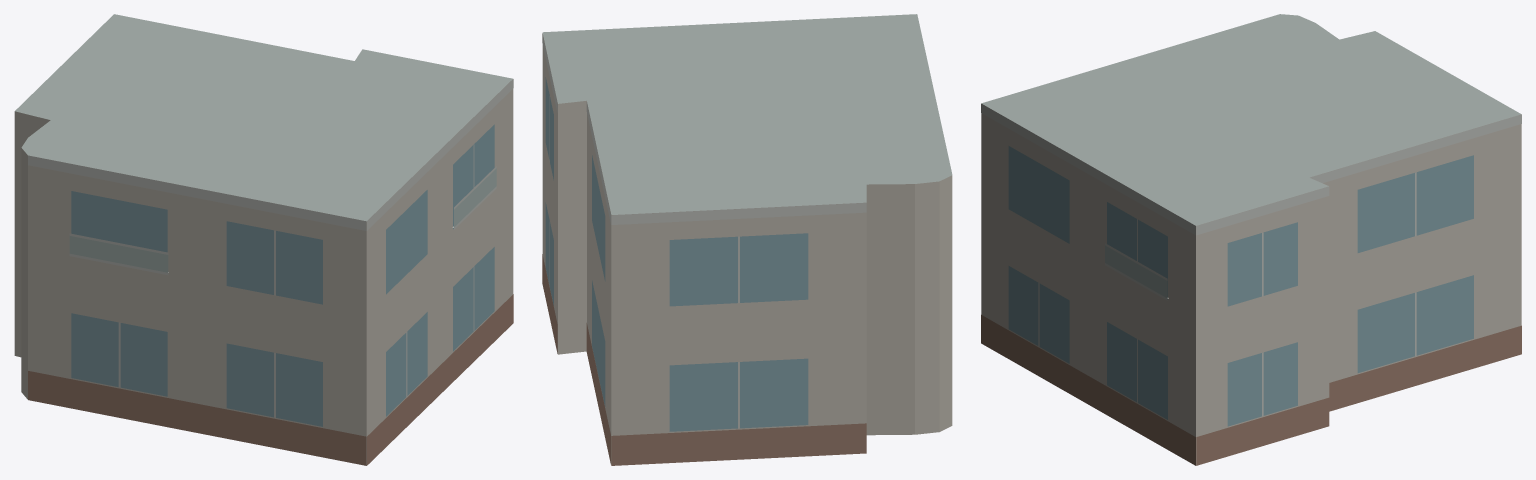
File: survey-upis-32597837.glb
3 renders of one model, left to right at view 1: azimuth 30°, elevation 25°; view 2: azimuth 150°, elevation 25°; view 3: azimuth 270°, elevation 25°, orthographic. The views are drawn at different scales.
Parts seen in each view (by area): view 1: survey-upis-32597837.tmp; view 2: survey-upis-32597837.tmp; view 3: survey-upis-32597837.tmp.
Part boxes in pixels (<box>): survey-upis-32597837.tmp: <box>14,14,513,465</box>; survey-upis-32597837.tmp: <box>542,14,952,465</box>; survey-upis-32597837.tmp: <box>981,14,1521,465</box>.
Size of the model in its own units: 11.56 by 6.1 by 12.47.
